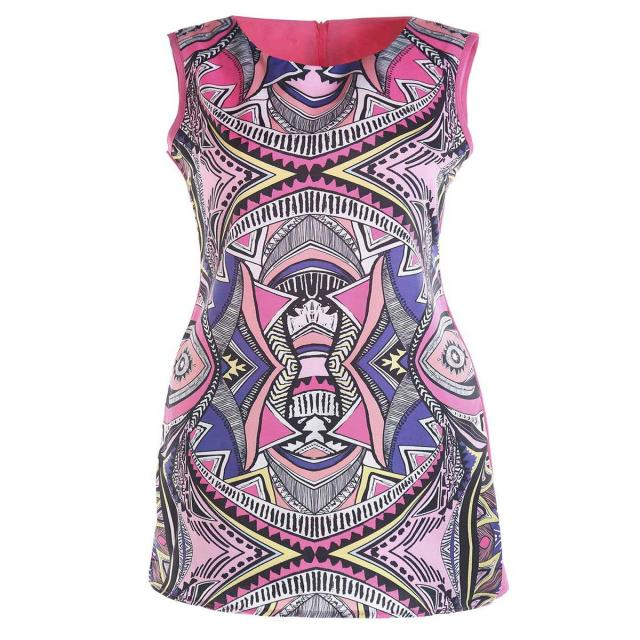Dress: (139, 12, 523, 621)
